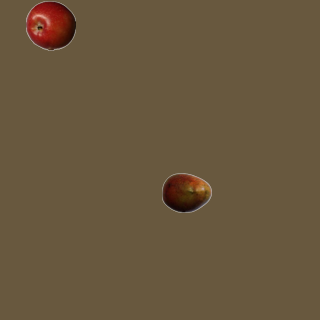Apple Braeburn: (25, 0, 75, 50)
Mango Red: (161, 167, 211, 217)
